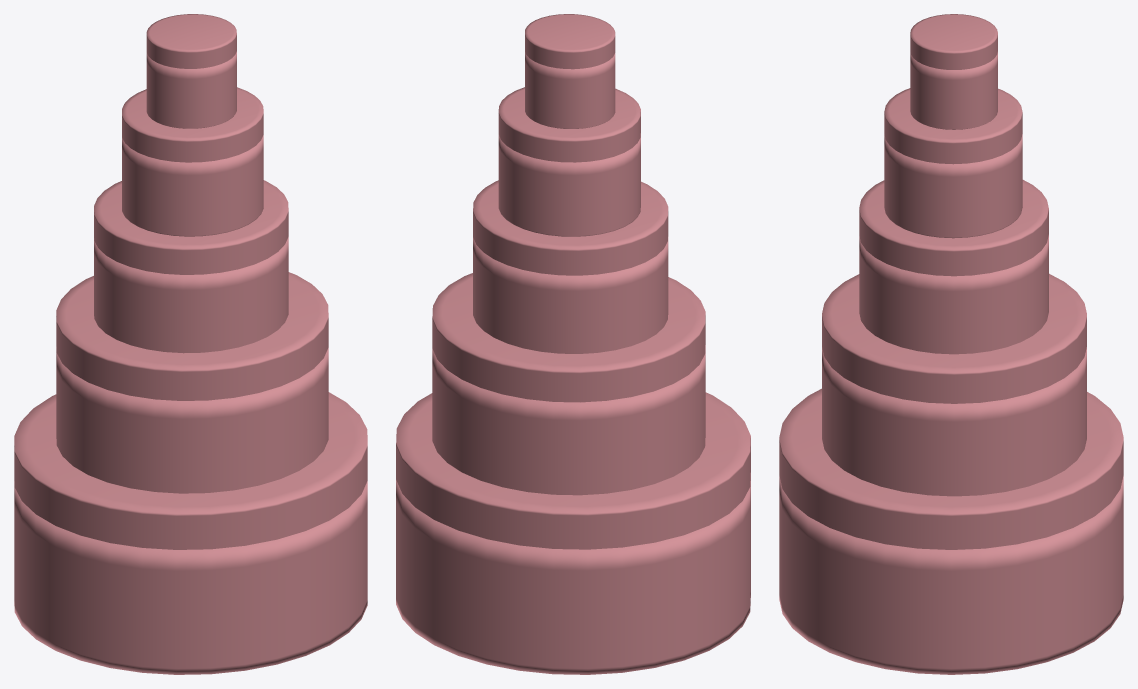
The model's file is 5-tier-blush-none-none.glb.
3 views of the same model, side by side, from view 1: azimuth 30°, elevation 25°; view 2: azimuth 150°, elevation 25°; view 3: azimuth 270°, elevation 25° (orthographic).
Visible parts, largest first — view 1: 3.004, 3.003, 3.002, 2.001, 1.001; view 2: 3.004, 3.003, 3.002, 2.001, 1.001; view 3: 3.004, 3.003, 3.002, 2.001, 1.001.
Part boxes in pixels (x1=…): 3.004: x1=14, y1=392, x2=367, y2=674; 3.003: x1=56, y1=272, x2=328, y2=493; 3.002: x1=94, y1=180, x2=288, y2=353; 2.001: x1=122, y1=87, x2=263, y2=236; 1.001: x1=146, y1=14, x2=236, y2=128; 3.004: x1=396, y1=392, x2=750, y2=674; 3.003: x1=432, y1=273, x2=705, y2=495; 3.002: x1=473, y1=180, x2=668, y2=353; 2.001: x1=498, y1=87, x2=640, y2=236; 1.001: x1=525, y1=14, x2=615, y2=128; 3.004: x1=779, y1=388, x2=1123, y2=674; 3.003: x1=822, y1=273, x2=1086, y2=496; 3.002: x1=859, y1=180, x2=1048, y2=354; 2.001: x1=884, y1=88, x2=1022, y2=238; 1.001: x1=910, y1=14, x2=997, y2=129.
Bounding box in the file's own units: 5.75 × 10.06 × 5.54.
